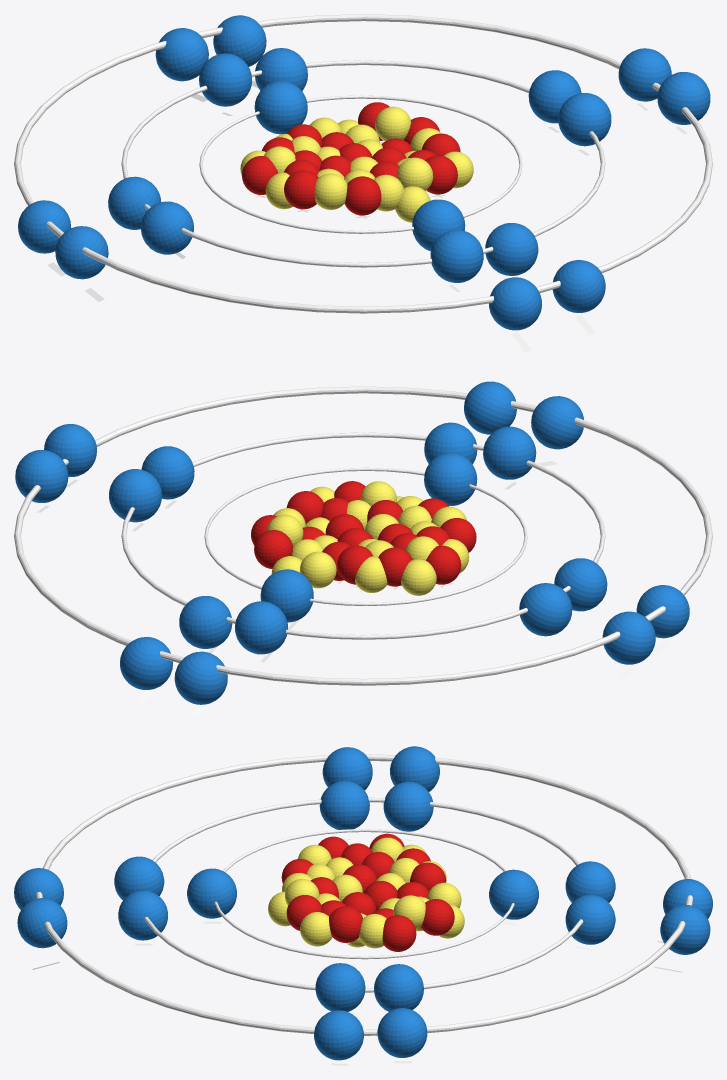
3 views of the same model, one above another, from view 1: azimuth 30°, elevation 25°; view 2: azimuth 150°, elevation 25°; view 3: azimuth 270°, elevation 25° (orthographic). The views are drawn at different scales.
Visible parts, largest first — view 1: Torus.003, Torus.002, Torus.001, -.008, -.004, -.017, -.005, -.002, -.003, -.001, -.013, -.016 (+21 smaller); view 2: Torus.003, Torus.002, Torus.001, -.004, -.008, -.009, -.006, -.017, -.016, -.007, -, -.013 (+22 smaller); view 3: Torus.003, Torus.002, Torus.001, -.015, -.010, -.006, -.003, -.002, -, -.001, -.009, -.005 (+23 smaller).
Part boxes in pixels (x1,y1,x2,y2): Torus.003: (14,14,712,313); Torus.002: (121,60,605,267); Torus.001: (199,95,522,233); -.008: (430,230,483,282); -.004: (199,53,251,106); -.017: (489,277,541,330); -.005: (485,223,538,275); -.002: (558,93,611,146); -.003: (141,201,193,254); -.001: (254,81,307,134); -.013: (552,260,605,312); -.016: (155,28,208,81); Torus.003: (14,386,712,685); Torus.002: (121,432,605,639); Torus.001: (204,467,527,605); -.004: (235,601,287,654); -.008: (483,426,536,479); -.009: (179,596,232,648); -.006: (519,583,572,636); -.017: (531,396,583,449); -.016: (174,651,227,704); -.007: (109,469,161,522); -: (424,453,477,505); -.013: (464,381,516,434); Torus.003: (36,754,692,1035); Torus.002: (144,797,583,992); Torus.001: (214,829,514,959); -.015: (314,1010,363,1060); -.010: (377,1008,427,1057); -.006: (383,781,433,831); -.003: (319,781,369,829); -.002: (315,963,365,1011); -: (187,868,236,918); -.001: (489,869,538,919); -.009: (565,894,615,944); -.005: (118,890,167,940).
Size of the model in its own units: 6.51 by 0.7994 by 6.49.
